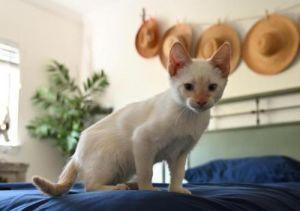siamese: (161, 36, 240, 120)
